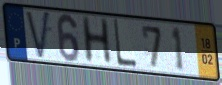1: (170, 26, 184, 73)
6: (56, 12, 80, 64)
7: (140, 24, 164, 68)
H: (79, 15, 114, 65)
L: (111, 17, 138, 69)
V: (24, 9, 52, 62)
